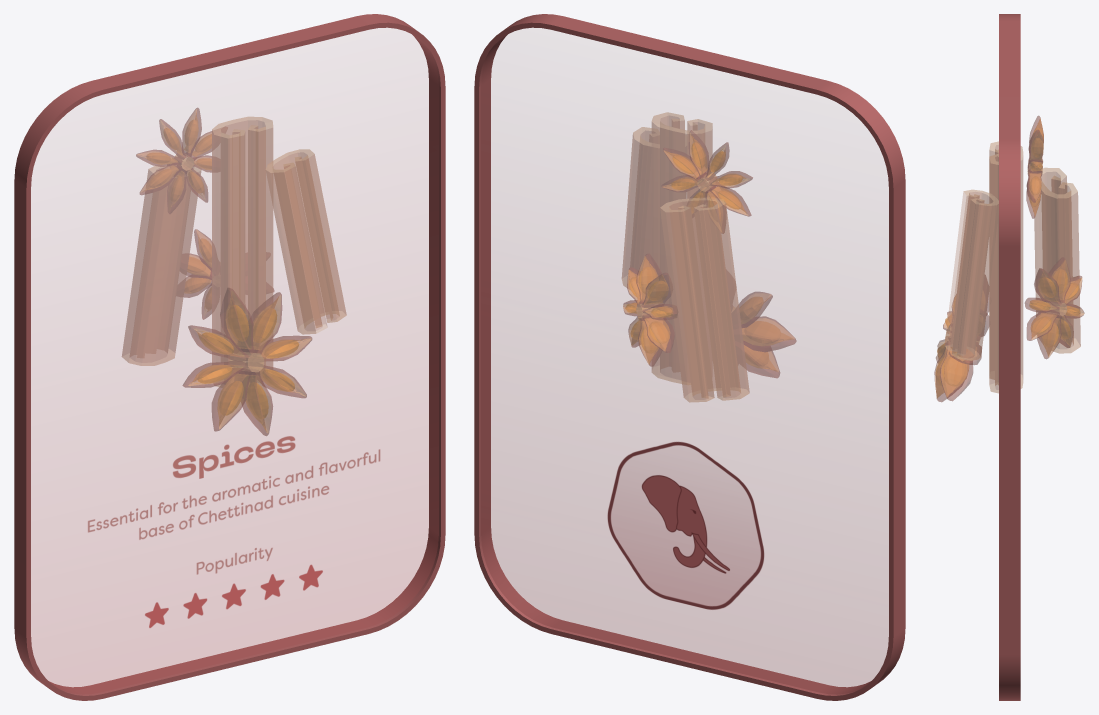
The model's file is spices.glb.
3 renders of one model, left to right at view 1: azimuth 30°, elevation 25°; view 2: azimuth 150°, elevation 25°; view 3: azimuth 270°, elevation 25°, orthographic. The views are drawn at different scales.
Visible parts, largest first — view 1: Bhai_Card.tex.016, cinnamon stick.002, Bhai_Card.out.016; view 2: Bhai_Card.tex.016, Bhai_Card.out.016, cinnamon stick.002; view 3: cinnamon stick.002, Bhai_Card.out.016.
Part boxes in pixels (<box>): Bhai_Card.tex.016: <box>31,163,438,694</box>; cinnamon stick.002: <box>122,108,346,435</box>; Bhai_Card.out.016: <box>14,14,445,700</box>; Bhai_Card.tex.016: <box>481,163,888,694</box>; Bhai_Card.out.016: <box>474,14,905,700</box>; cinnamon stick.002: <box>622,112,796,402</box>; cinnamon stick.002: <box>934,116,1084,401</box>; Bhai_Card.out.016: <box>999,14,1020,700</box>.
Size of the model in its own units: 1.81 by 2.51 by 0.617.
21 materials, 2 textured.
